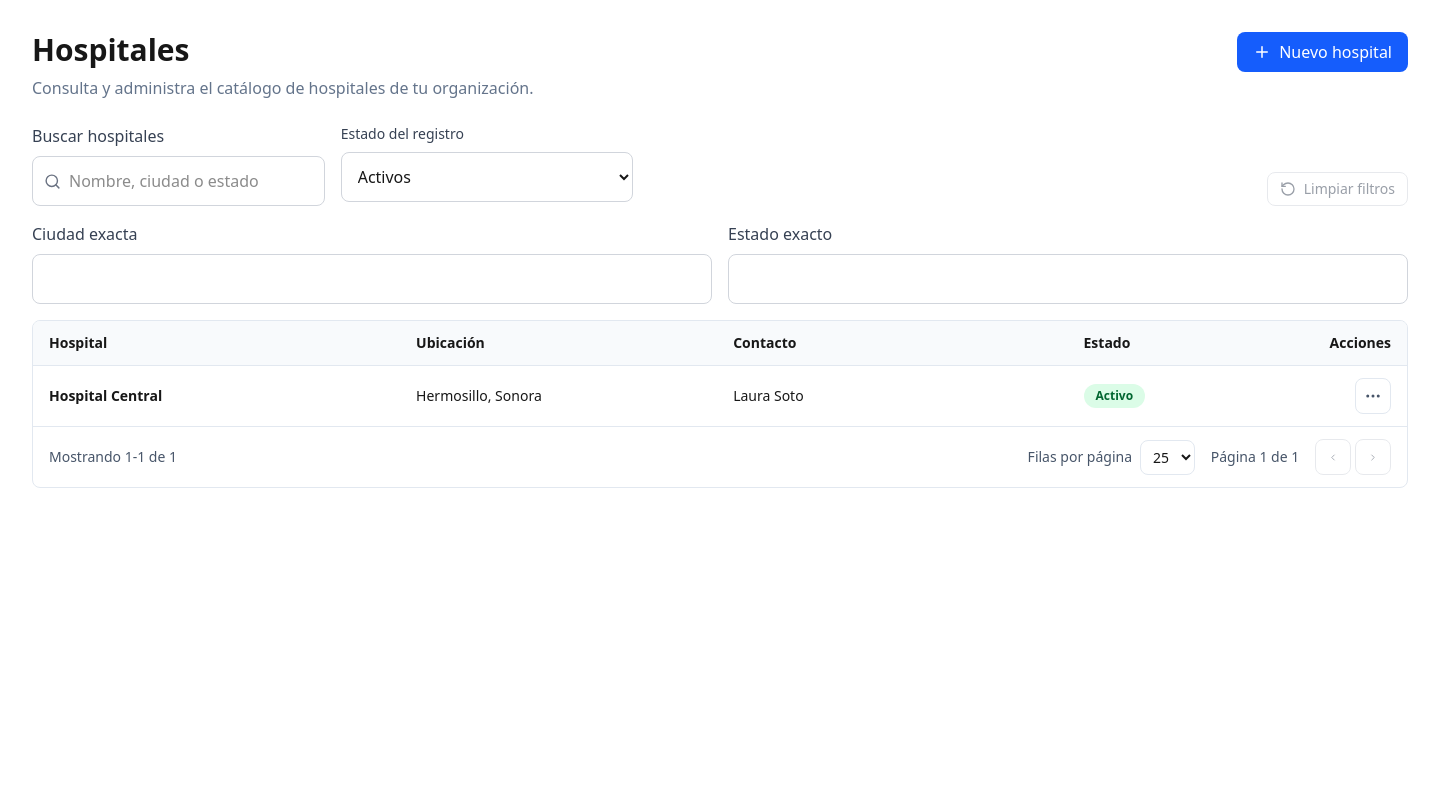
HospitalsPage › crea con payload permitido y feedback de éxito
The width and height of the screenshot is (1440, 810).
Expected: the text "Hospital Central" is shown, [49,386,162,405]
Click the button "Nuevo hospital" at coordinates (1323, 52), box [1237,32,1408,72]
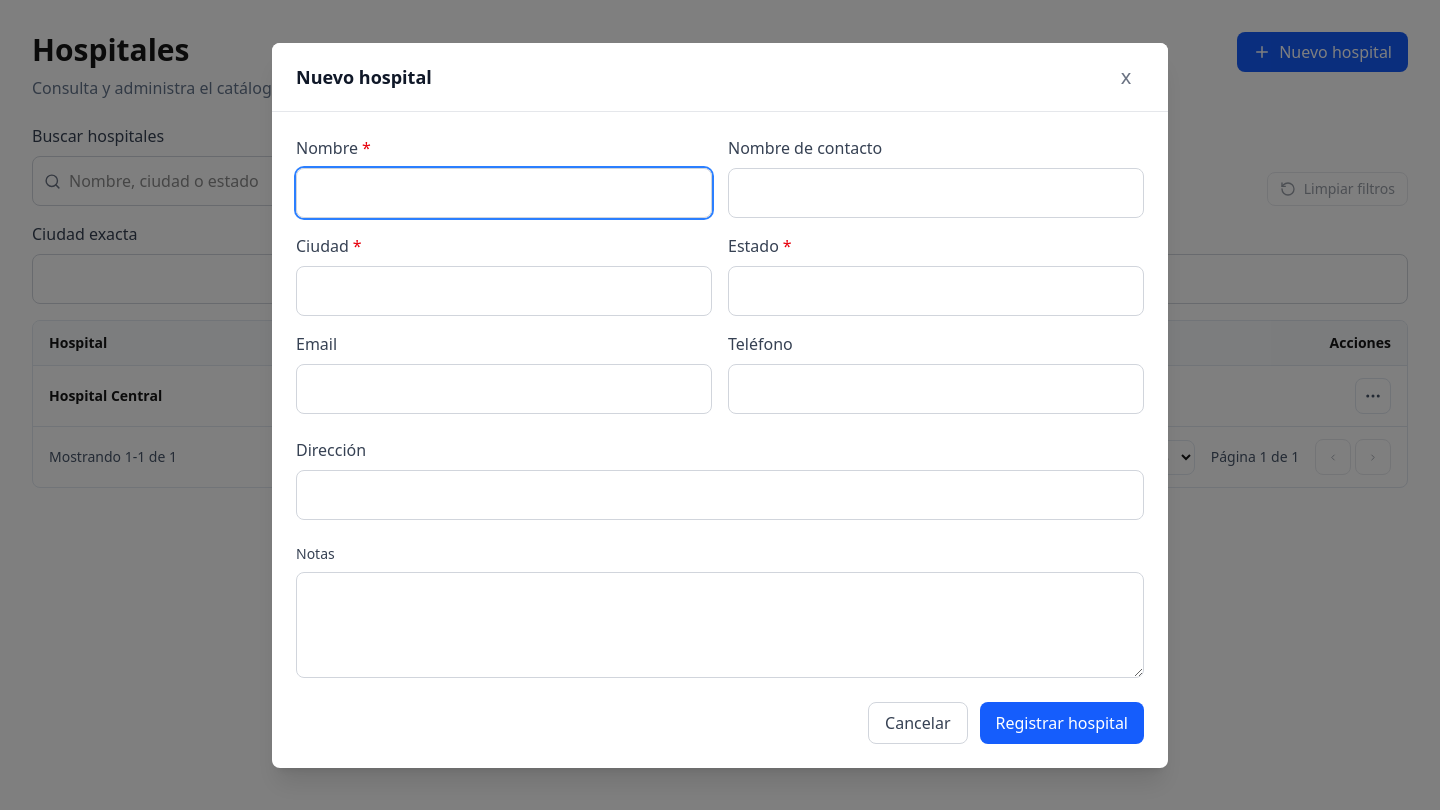
Type " Clínica Norte " into the field labelled "Nombre" at coordinates (504, 192), box [296,168,712,218]
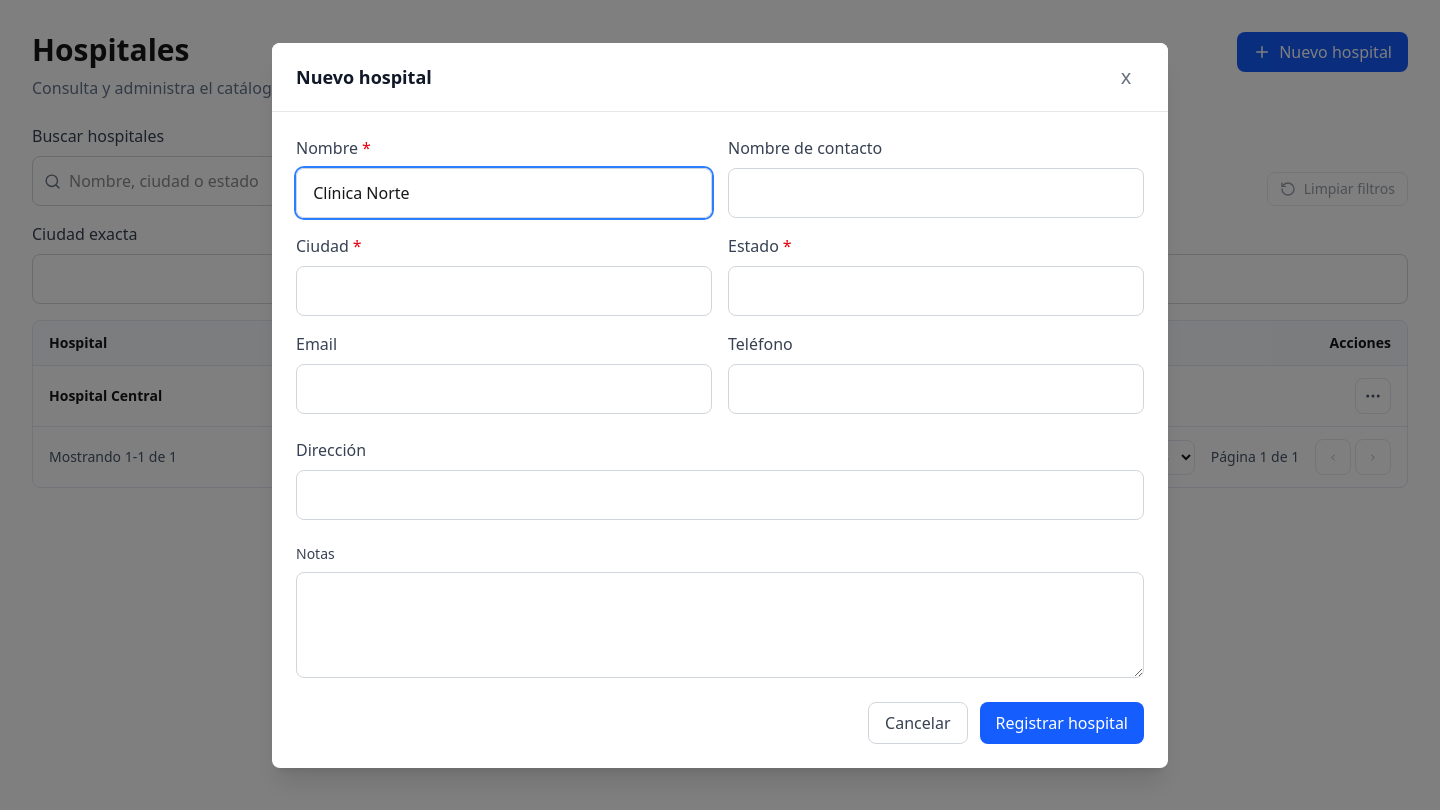
Type " Hermosillo " into the field labelled "Ciudad" at coordinates (504, 290), box [296,266,712,316]
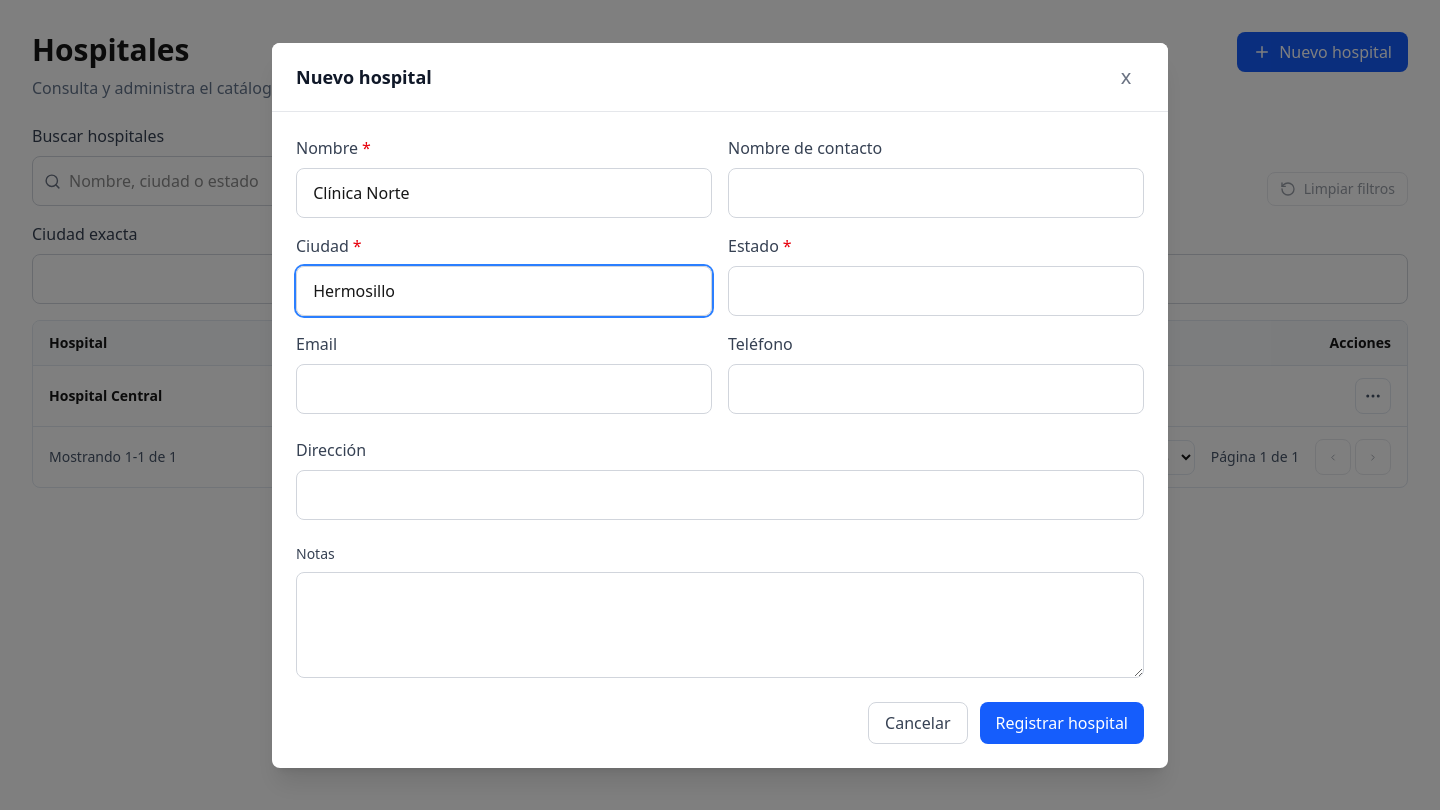
Type " Sonora " into the field labelled "Estado" at coordinates (936, 290), box [728,266,1144,316]
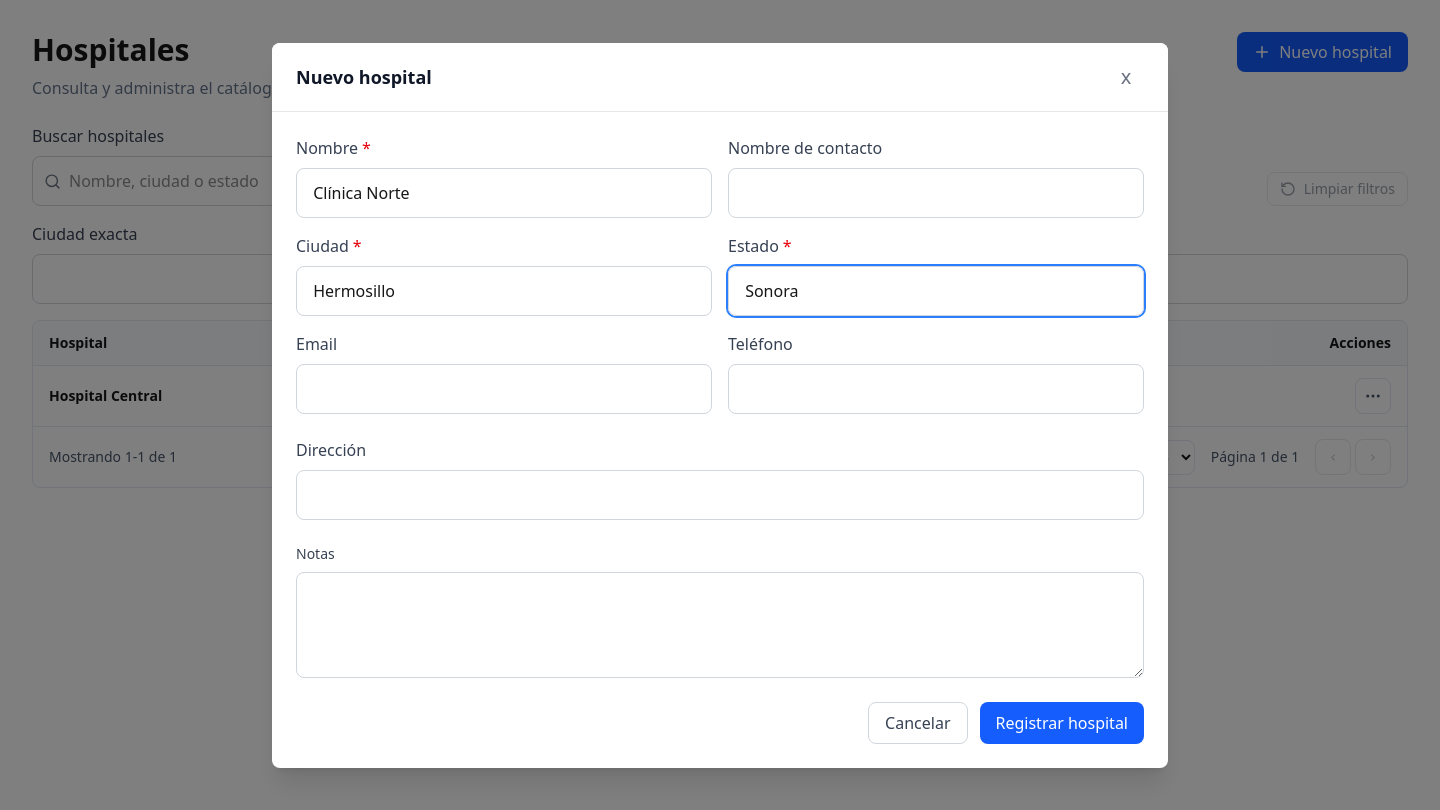
Type " Marta Ruiz " into the field labelled "Nombre de contacto" at coordinates (936, 192), box [728,168,1144,218]
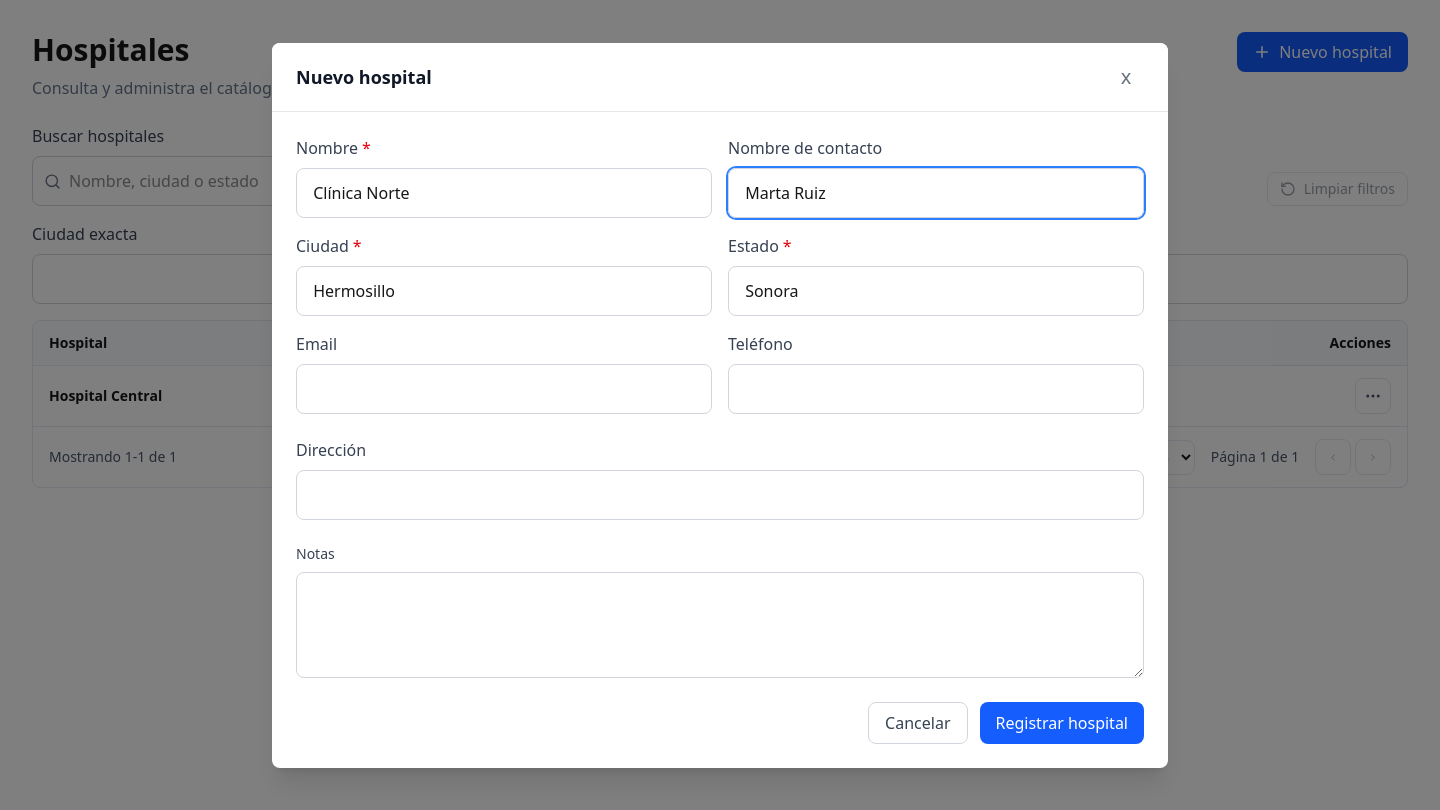
Click the button "Registrar hospital" at coordinates (1062, 722), box [980,702,1144,744]
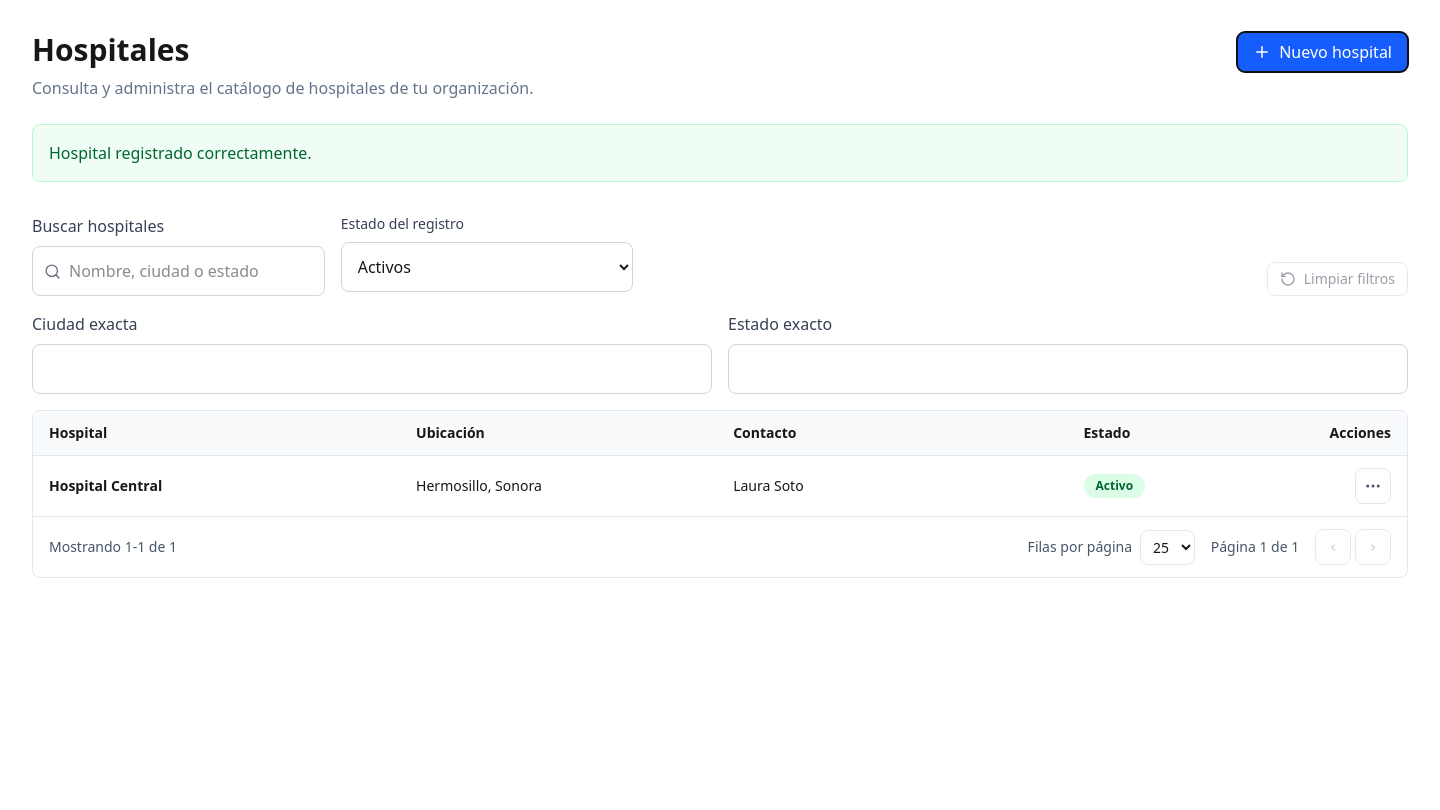
Expected: the text "Hospital registrado correctamente." is shown, [32,124,1408,182]
